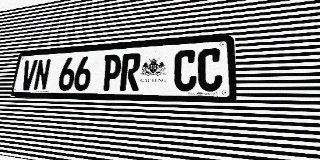6: (73, 56, 93, 91), (57, 57, 77, 91)
C: (197, 48, 222, 91), (173, 49, 197, 91)
N: (33, 59, 51, 91)
P: (101, 54, 122, 91)
R: (119, 53, 141, 91)
V: (20, 60, 38, 91)
